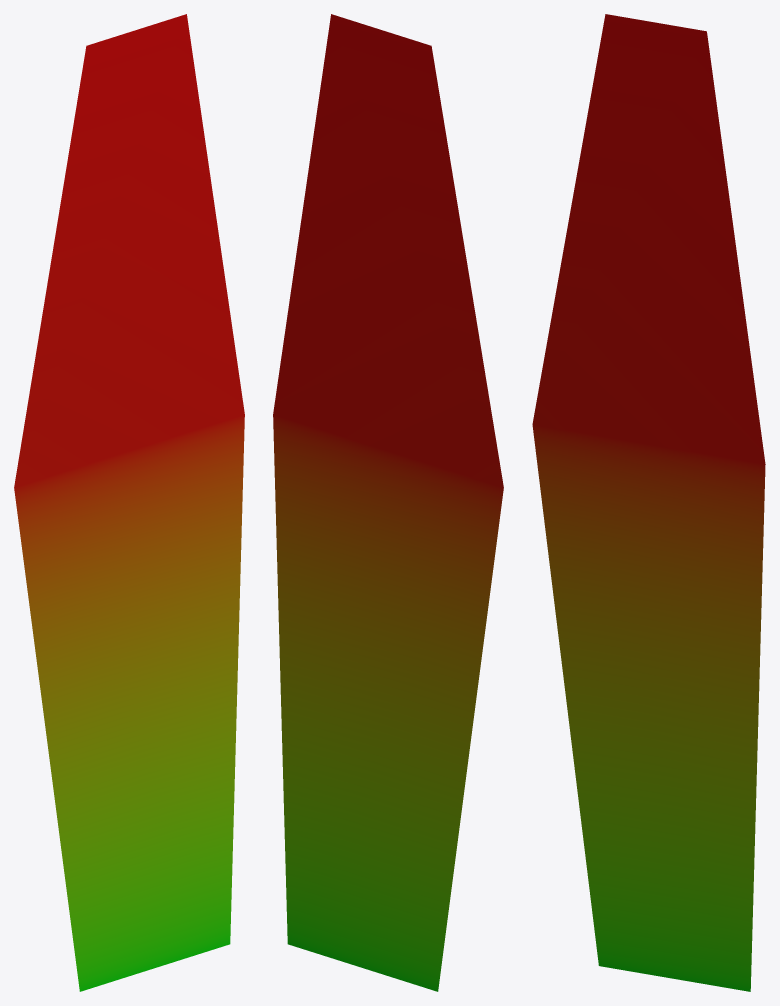
Rendered from Crownbeard_LOD4_Var7_tefoajkr.fbx.
3 renders of one model, left to right at view 1: azimuth 30°, elevation 25°; view 2: azimuth 150°, elevation 25°; view 3: azimuth 330°, elevation 25°, orthographic.
Parts seen in each view (by area): view 1: _5125_Var7_LOD4; view 2: _5125_Var7_LOD4; view 3: _5125_Var7_LOD4.
Part boxes in pixels (<box>): _5125_Var7_LOD4: <box>14,14,244,991</box>; _5125_Var7_LOD4: <box>273,14,503,991</box>; _5125_Var7_LOD4: <box>532,14,765,991</box>.
Bounding box in the file's own units: 20.98 × 82.69 × 0.000182.
